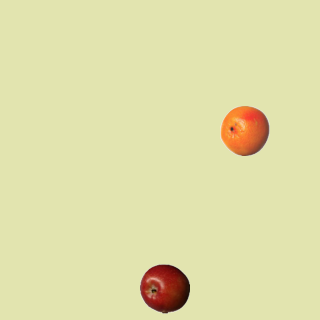Apple Braeburn: (139, 263, 189, 313)
Grapefruit Pink: (219, 105, 269, 155)
